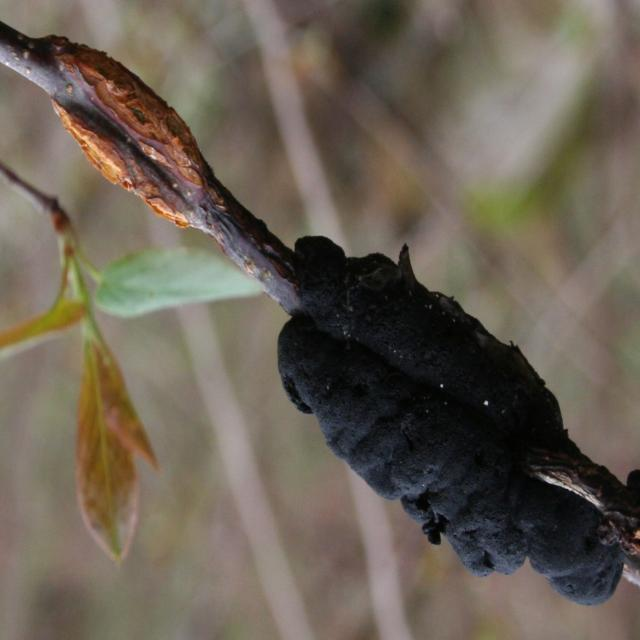Black_knot: (2, 19, 637, 607), (276, 231, 638, 607)
